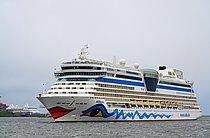Ship: (37, 44, 208, 127)
